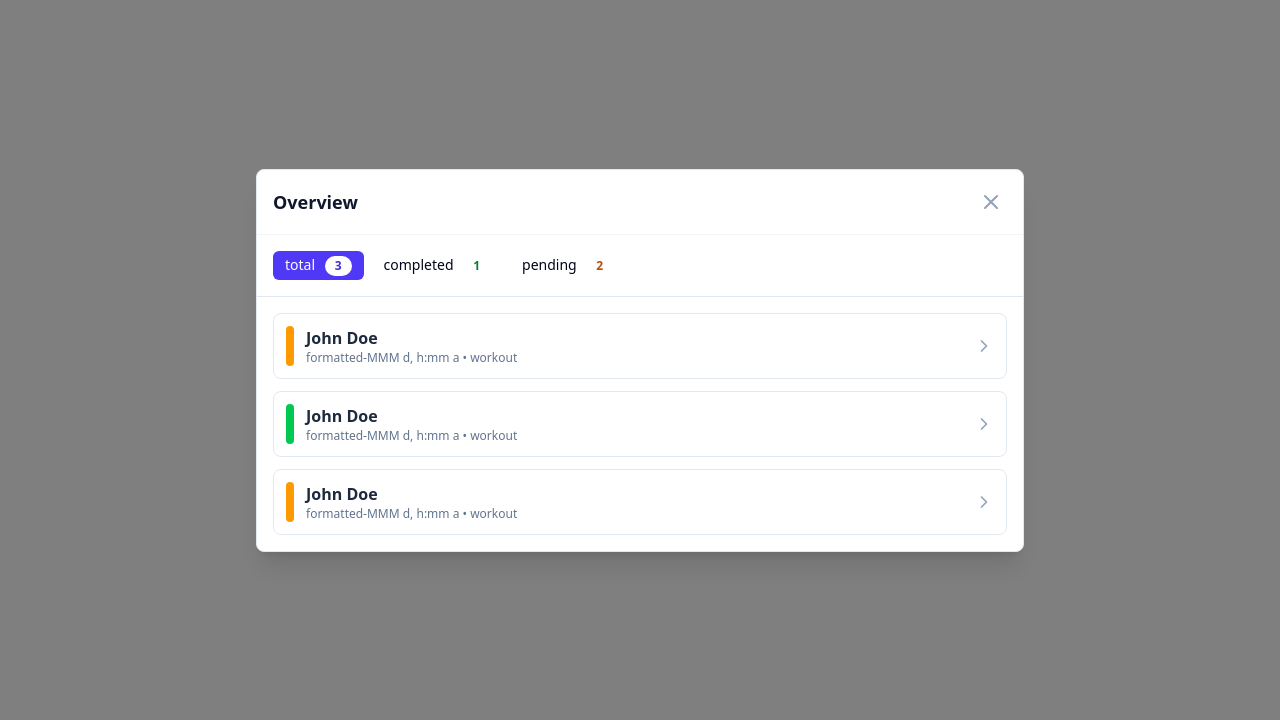
Scenario: OverviewModal › shows session detail view when a session item is clicked
What coordinates should you click on to do the following:
click the 1st text "John Doe"
I would click on:
 (640, 346)
Its box is [273,312,1007,378].
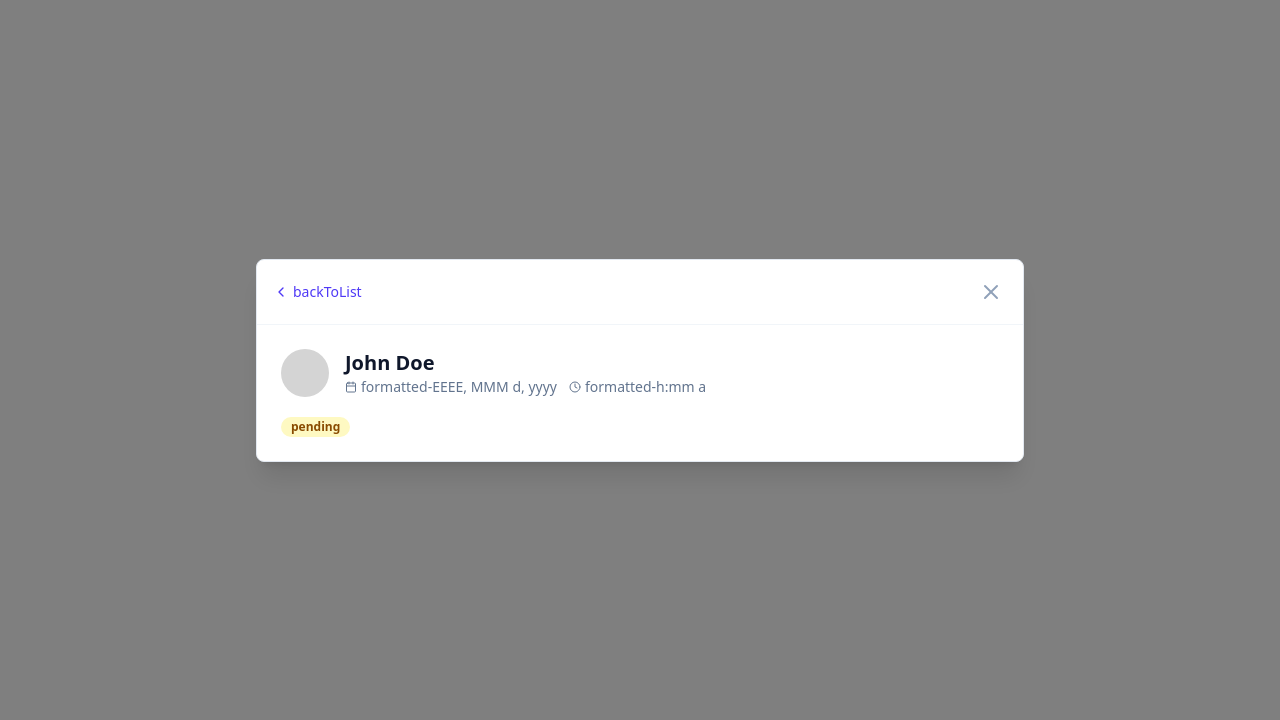
Expected: the button "backToList" is shown, [273,282,362,302]
